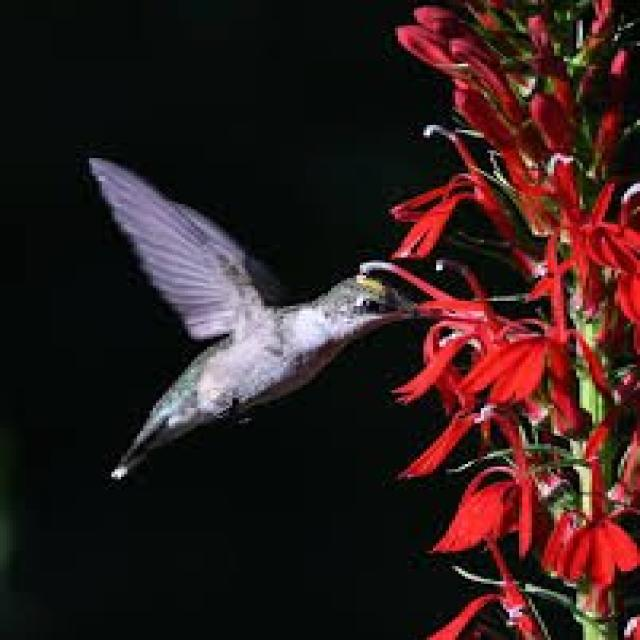Humming Bird: (80, 149, 425, 488)
